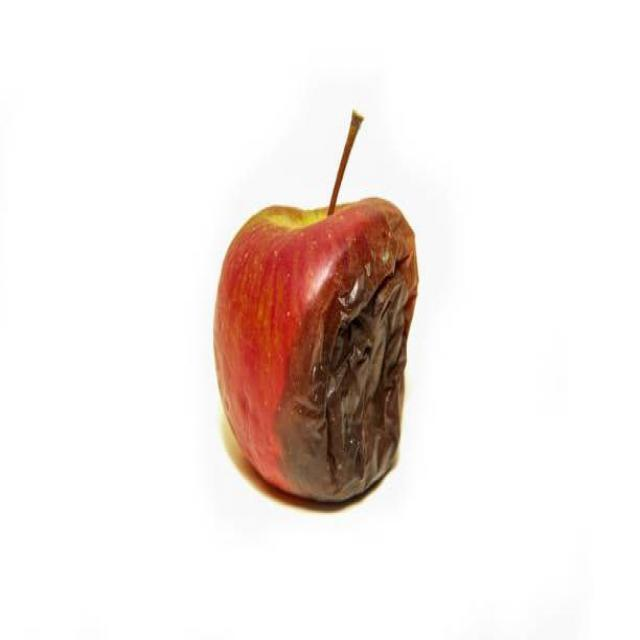Rotten: (220, 208, 412, 508)
